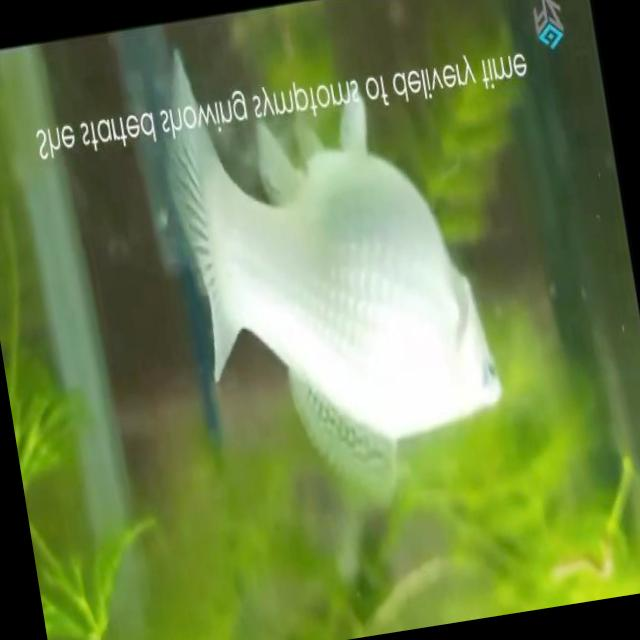PlatyFish: (118, 0, 537, 556)
